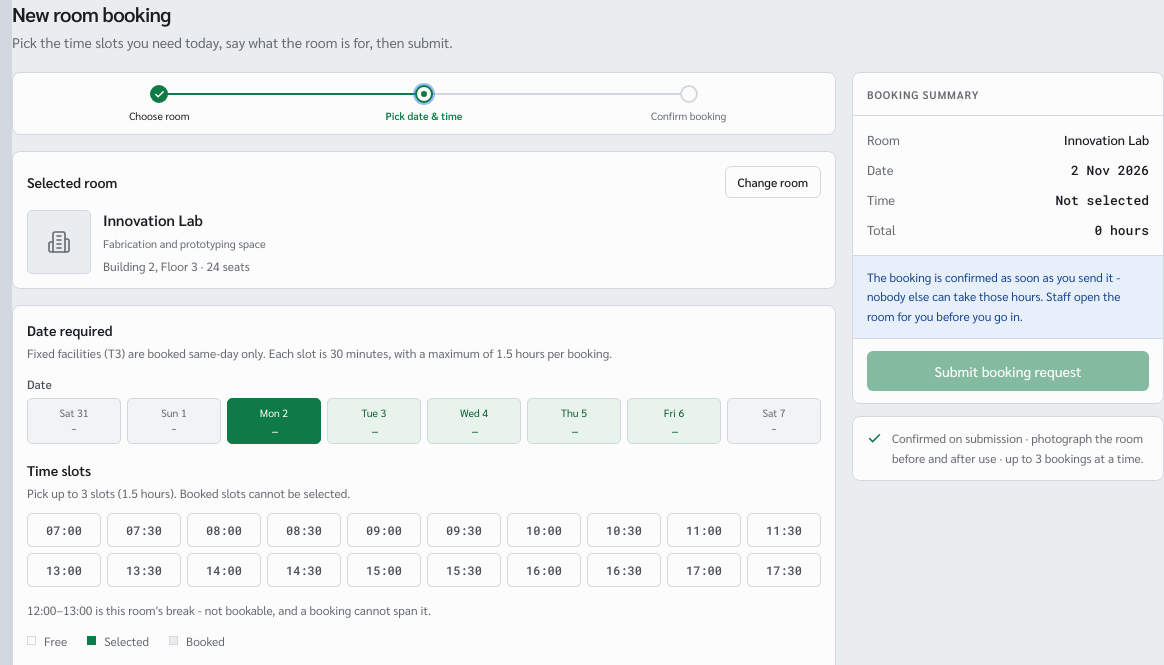
Test: Module 5 T3 facilities › shows an error and stays on the page when the server rejects the slot as a clash
This screenshot has width=1164, height=665.
Click the button "07:00": click(64, 530) [27,513,101,547]
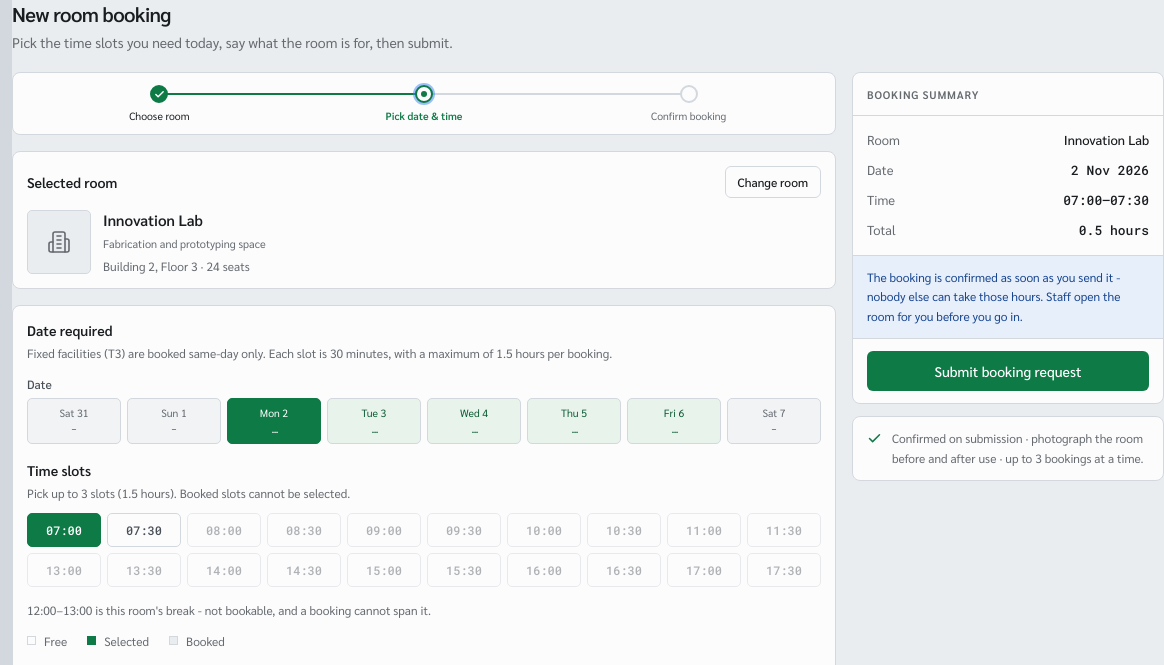
Click the button "Submit booking request": click(1008, 371) [867,351,1149,391]
(page scrolled)
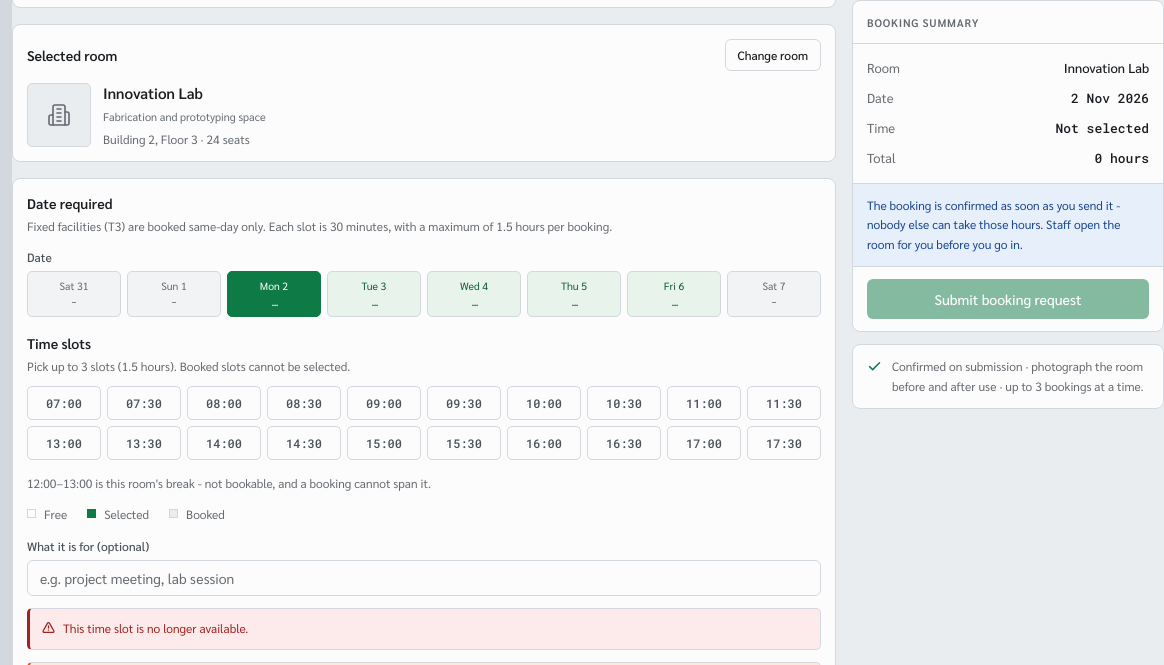
Expected: the text "This time slot is no longer available." is shown, [42,619,248,638]
